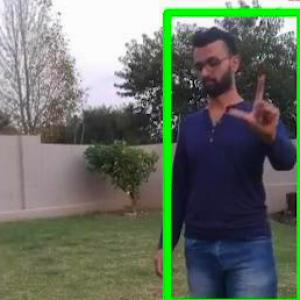land_hand: (227, 64, 287, 138)
